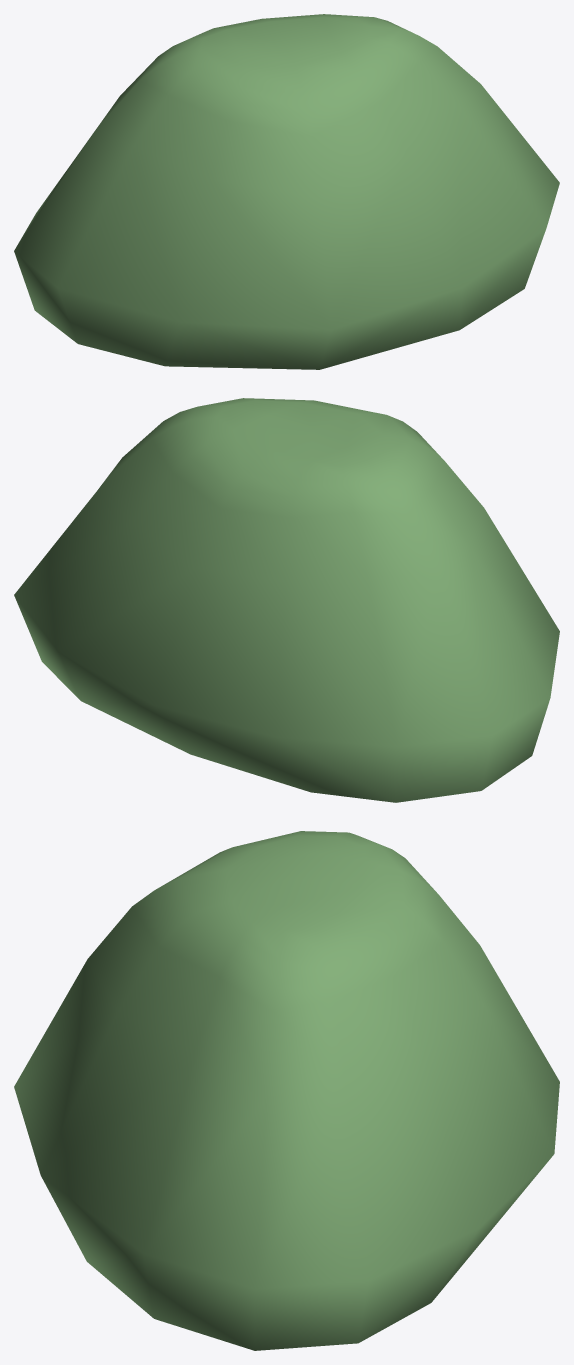
File: Flag_14.fbx
3 renders of one model, top to bottom at view 1: azimuth 30°, elevation 25°; view 2: azimuth 150°, elevation 25°; view 3: azimuth 270°, elevation 25°, orthographic. The views are drawn at different scales.
Visible parts, largest first — view 1: Flag_14; view 2: Flag_14; view 3: Flag_14.
Boxes of the visible parts, x1,y1,x2,y2 form: Flag_14: (14, 14, 559, 369); Flag_14: (14, 398, 559, 802); Flag_14: (14, 831, 559, 1350).
Bounding box in the file's own units: 51.89 × 25.73 × 39.35.
